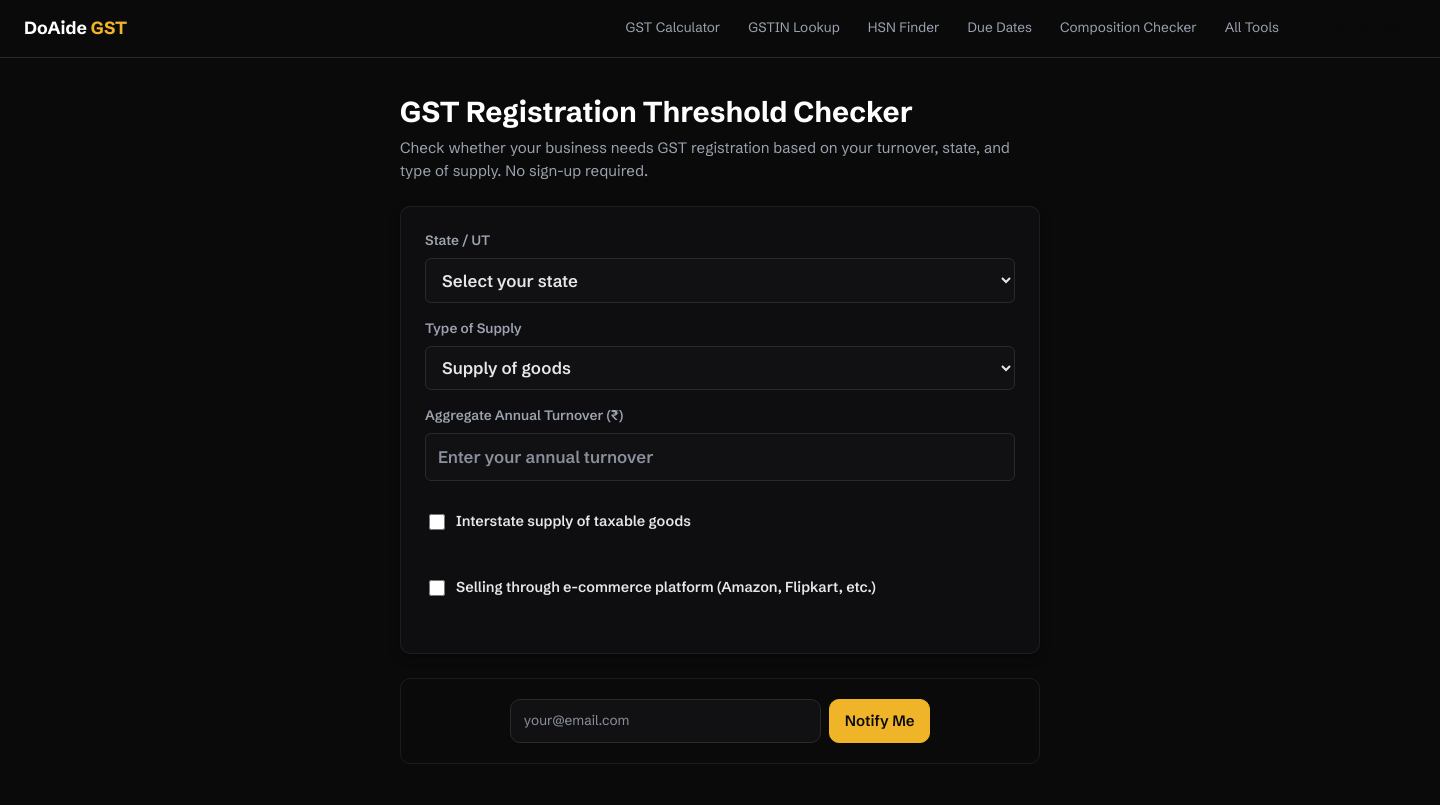
Test: TurnoverLimitPage › lets an intra-state marketplace seller below the limit stay unregistered
Select "Karnataka" in the dropdown labelled "State / UT" at (720, 280), box [425,258,1015,303]
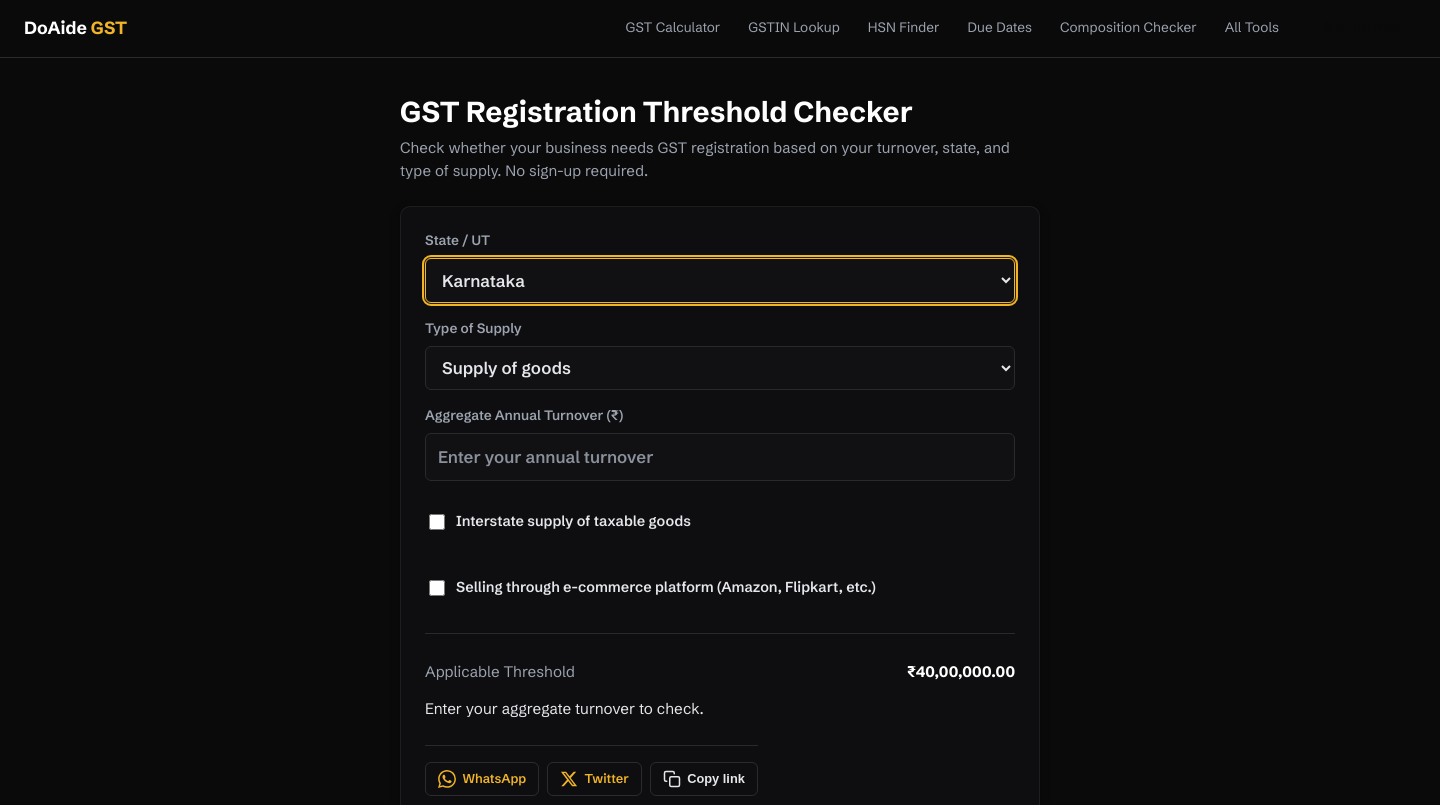
Type "800000" into the number field labelled "Aggregate Annual Turnover (₹)" at (720, 457), box [425,433,1015,481]
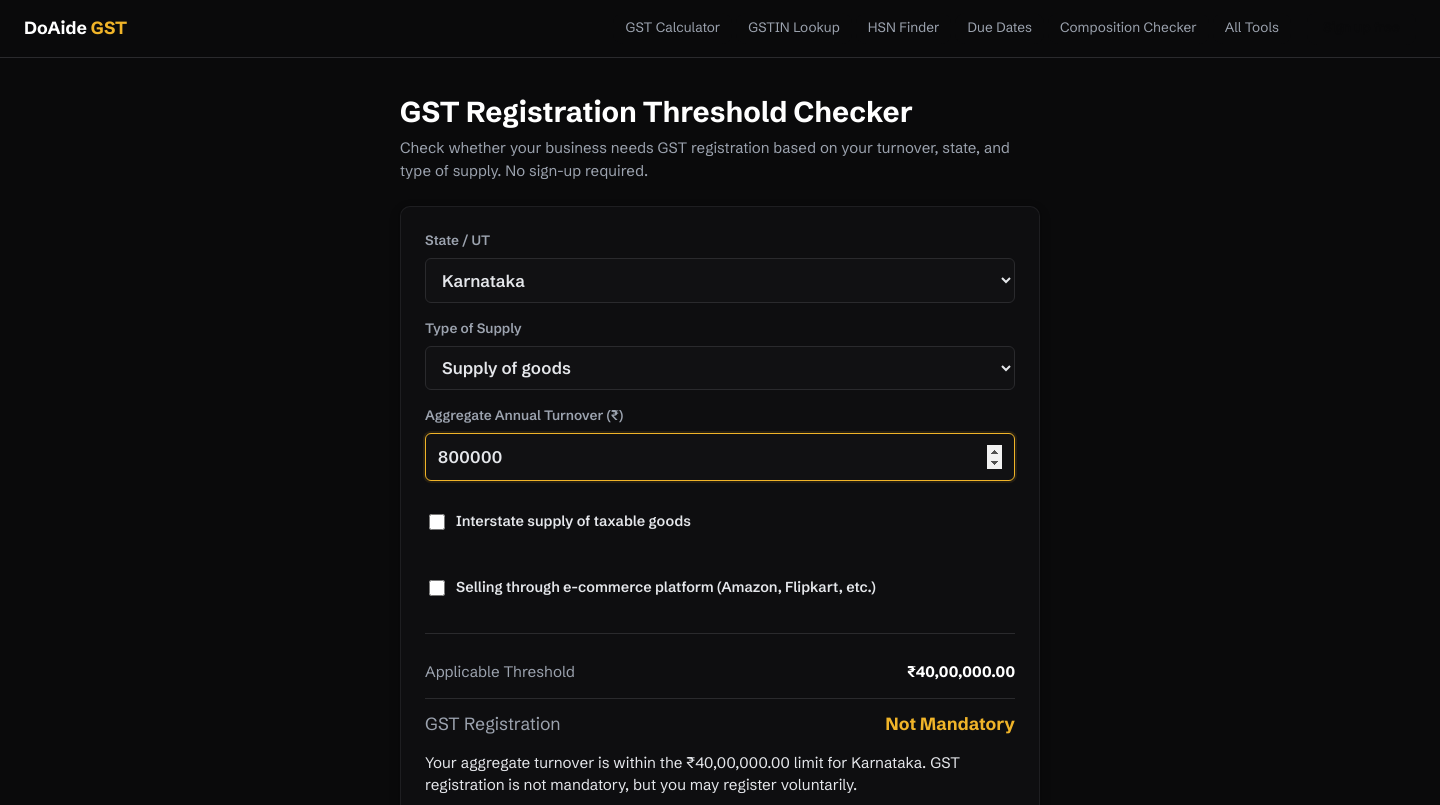
Click the checkbox labelled "Selling through e-commerce platform (Amazon, Flipkart, etc.)" at (437, 588), box [429,566,445,610]
(page scrolled)
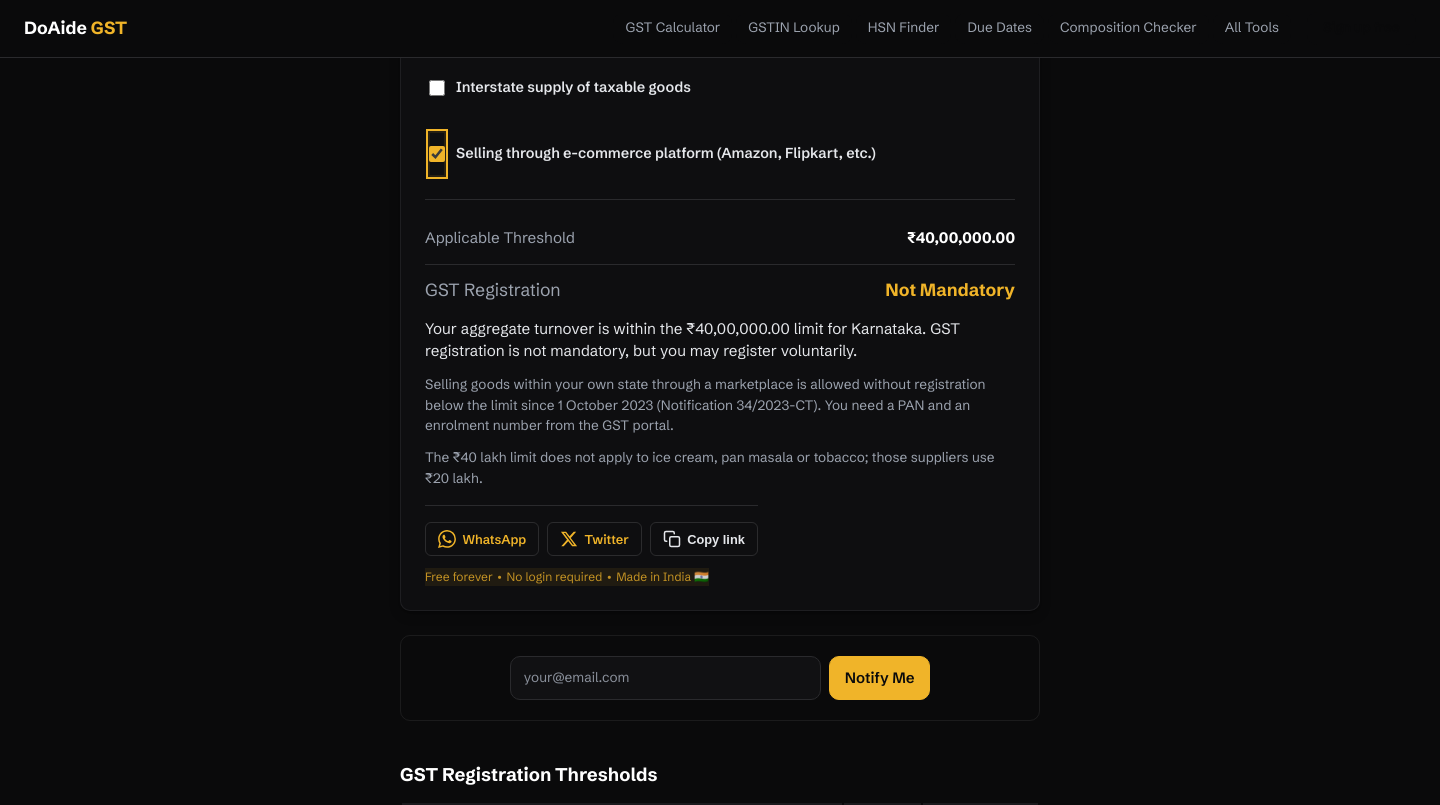
Expected: the text "Not Mandatory" is shown, [885,277,1015,303]
Expected: the text "Notification 34/2023-CT" is shown, [425,376,985,434]
